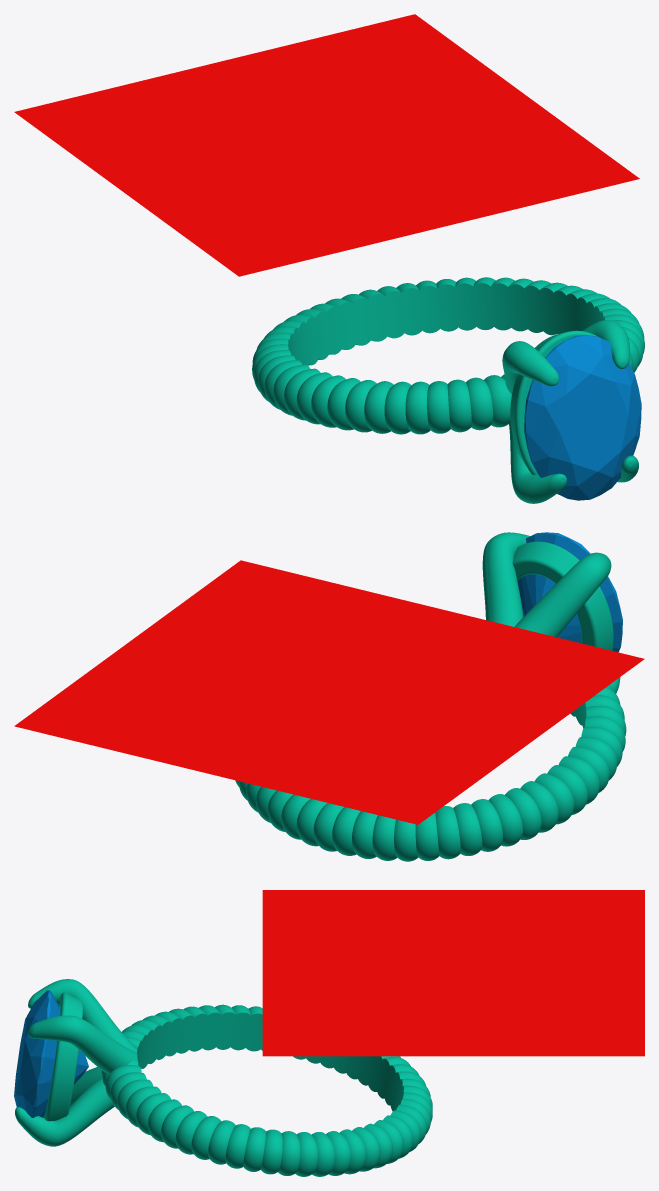
3 views of the same model, one above another, from view 1: azimuth 30°, elevation 25°; view 2: azimuth 150°, elevation 25°; view 3: azimuth 270°, elevation 25° (orthographic). The views are drawn at different scales.
Parts seen in each view (by area): view 1: RING.JTC.SRO25(base).3dm, Diamond_Oval; view 2: RING.JTC.SRO25(base).3dm, Diamond_Oval; view 3: RING.JTC.SRO25(base).3dm, Diamond_Oval.
Boxes of the visible parts, bbox=[...] form: RING.JTC.SRO25(base).3dm: bbox=[14, 14, 644, 503]; Diamond_Oval: bbox=[524, 335, 641, 500]; RING.JTC.SRO25(base).3dm: bbox=[14, 532, 644, 861]; Diamond_Oval: bbox=[517, 532, 622, 652]; RING.JTC.SRO25(base).3dm: bbox=[15, 890, 644, 1176]; Diamond_Oval: bbox=[14, 990, 88, 1117].
Size of what is drawn, in the model's own units: 2.83 by 1.21 by 4.54.
